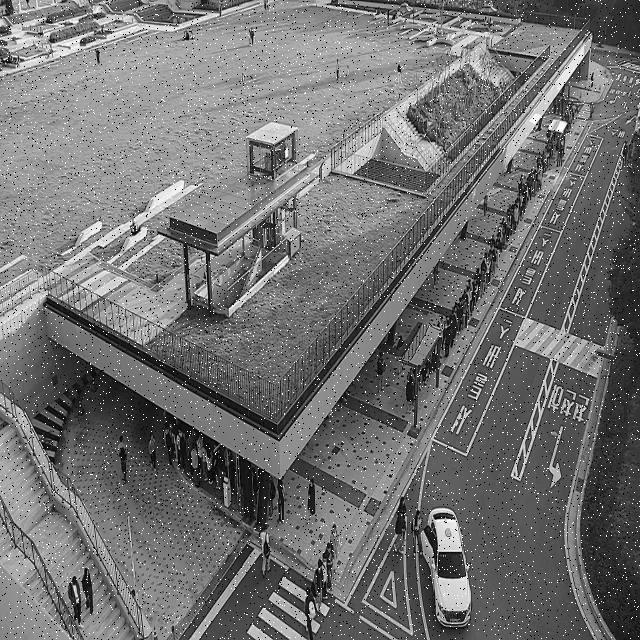queue: (414, 95, 576, 430)
